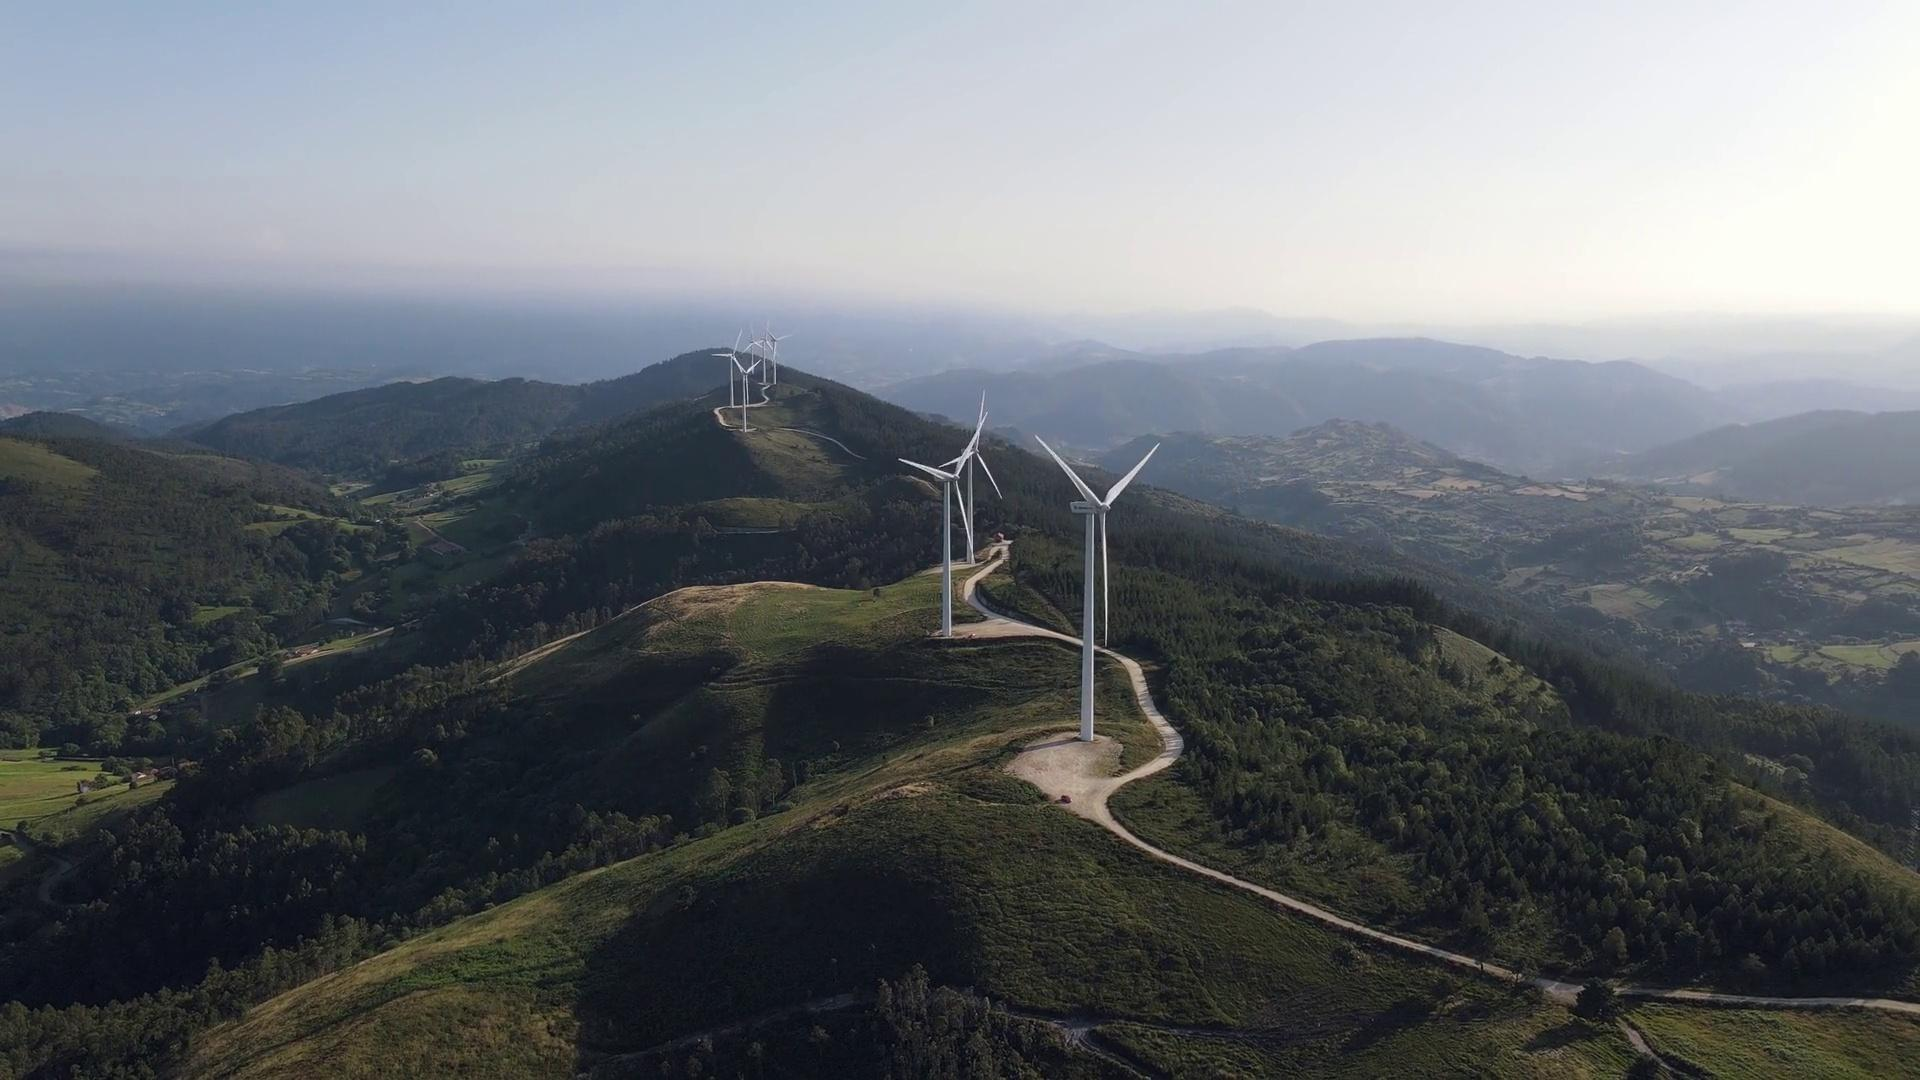turbine: (1015, 429, 1178, 775), (893, 419, 1011, 651), (923, 367, 1015, 580), (704, 359, 818, 458), (691, 327, 766, 415), (752, 309, 803, 396), (731, 323, 771, 392)
